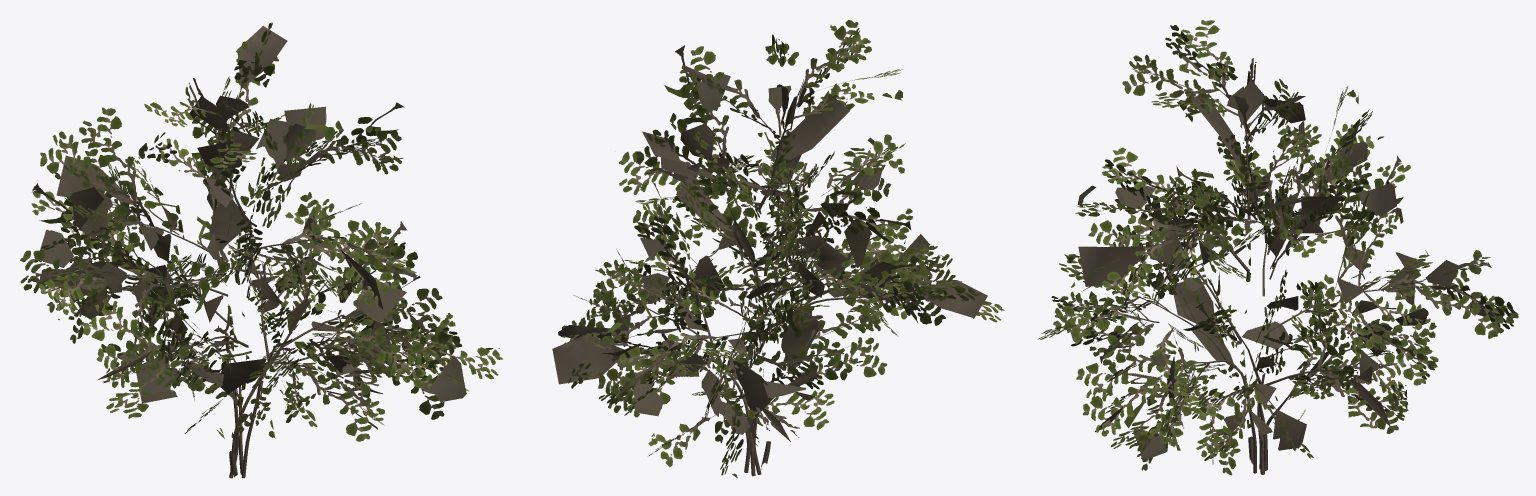
File: SM_BlackAlder_Sapling_06_PP_LOD2.gltf
3 renders of one model, left to right at view 1: azimuth 30°, elevation 25°; view 2: azimuth 150°, elevation 25°; view 3: azimuth 270°, elevation 25°, orthographic. The views are drawn at different scales.
Parts seen in each view (by area): view 1: SM_BlackAlder_Sapling_06_PP; view 2: SM_BlackAlder_Sapling_06_PP; view 3: SM_BlackAlder_Sapling_06_PP.
Boxes of the visible parts, x1,y1,x2,y2 form: SM_BlackAlder_Sapling_06_PP: (20, 22, 502, 478); SM_BlackAlder_Sapling_06_PP: (552, 20, 1004, 477); SM_BlackAlder_Sapling_06_PP: (1038, 20, 1518, 475).
Size of the model in its own units: 3.63 by 3.76 by 3.88.
1 material, 1 textured.
